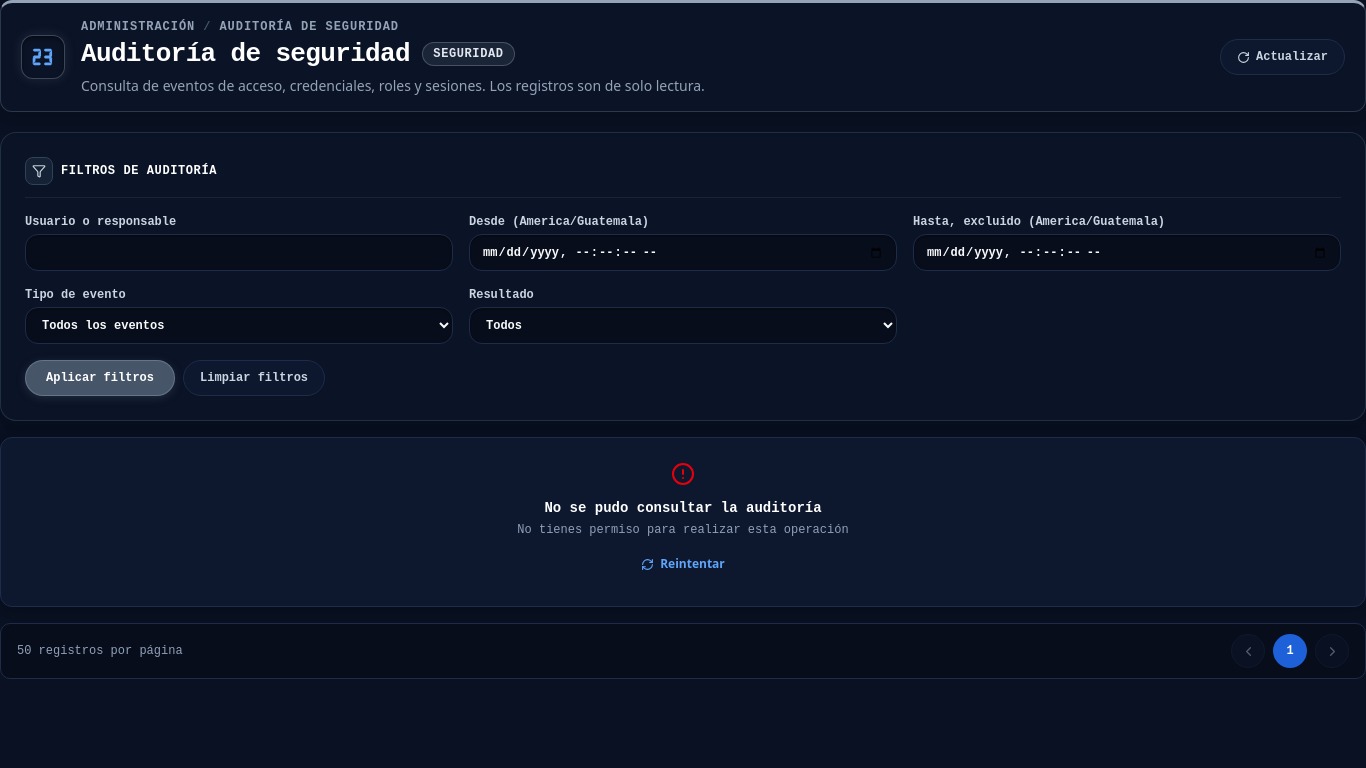
Test case: maneja respuesta vacía, fallo de consulta y reintento
The image size is (1366, 768).
Check: the message shows "No tienes permiso", box [517,523,849,537]
Click the button "Reintentar" at (683,564), box [626,546,740,582]
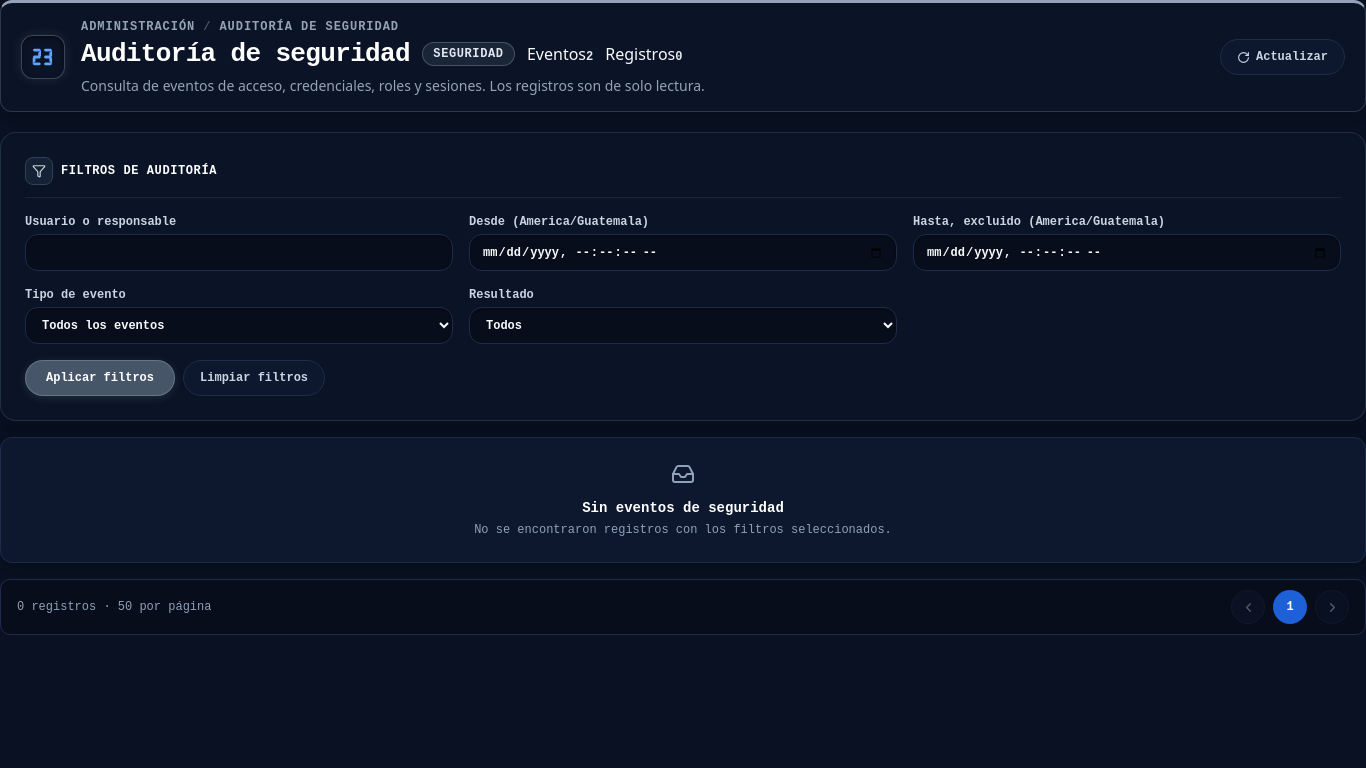
Check: the button named "Siguiente" is disabled, box [1315,590,1349,624]
Check: the heading "Sin eventos de seguridad" is shown, box [582,500,784,516]
